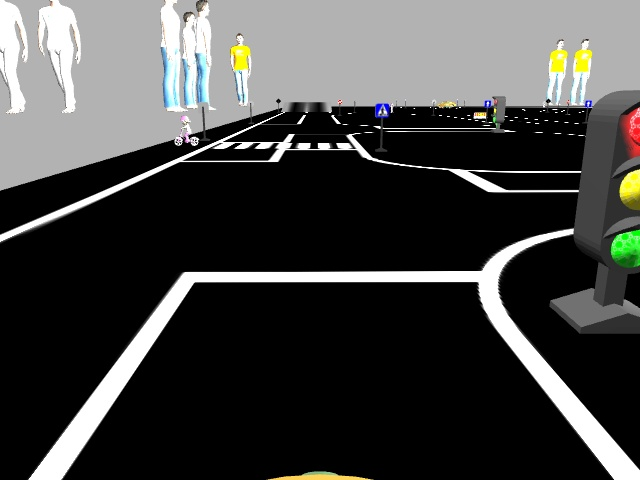Crosswalk: (374, 103, 389, 117)
Pedestrian: (173, 114, 197, 145)
TrafficLight: (570, 90, 639, 265)
